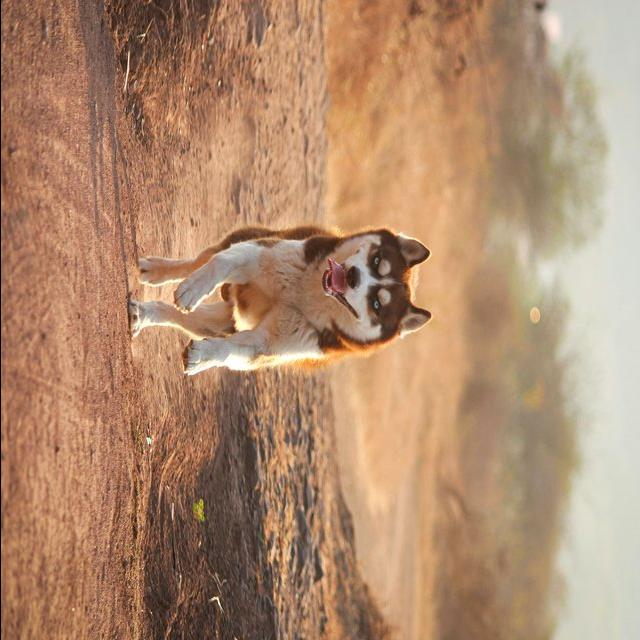husky: (128, 225, 433, 377)
